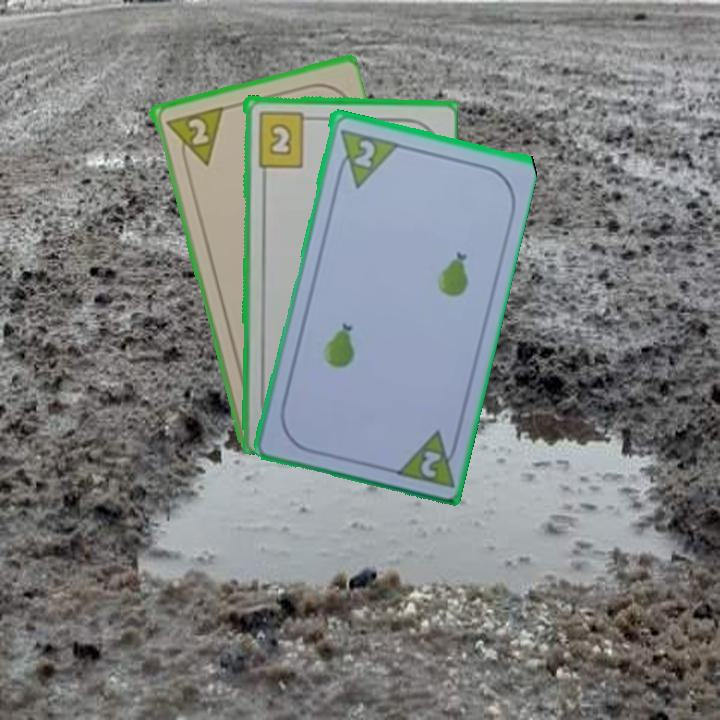2b: (254, 108, 316, 169)
2p: (161, 103, 225, 173), (350, 135, 378, 170), (416, 446, 444, 481)
